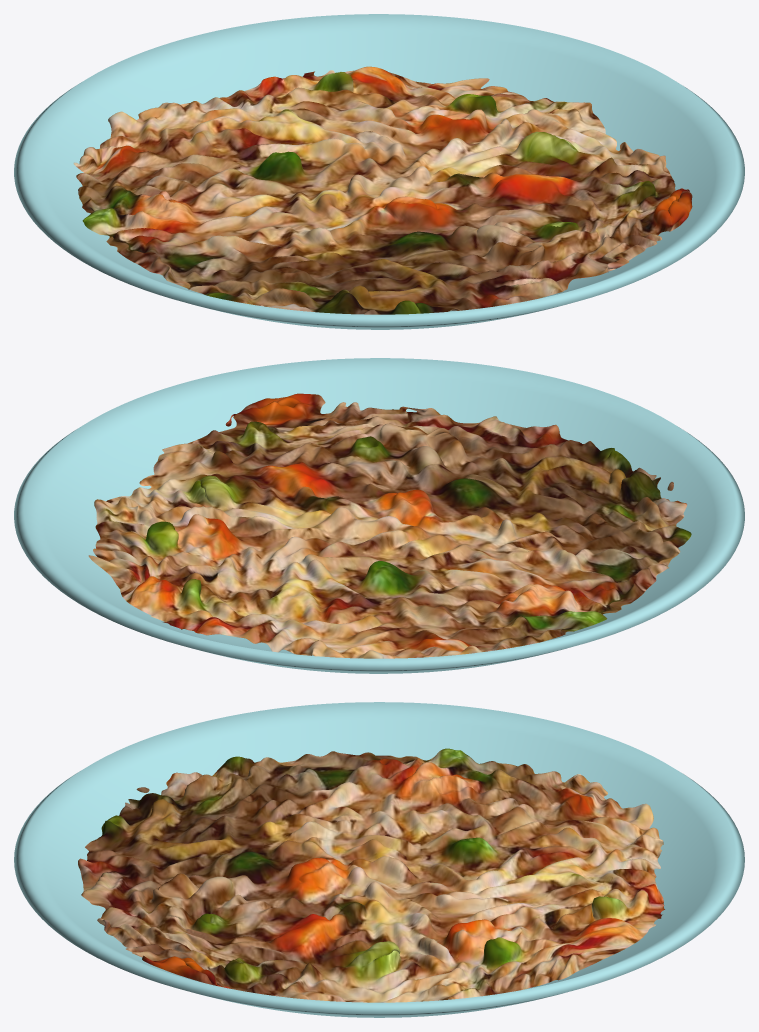
The model's file is fooddish.glb.
3 renders of one model, top to bottom at view 1: azimuth 30°, elevation 25°; view 2: azimuth 150°, elevation 25°; view 3: azimuth 270°, elevation 25°, orthographic.
Parts seen in each view (by area): view 1: Plane; view 2: Plane; view 3: Plane.
Part boxes in pixels (x1=…): Plane: x1=14, y1=14, x2=744, y2=329; Plane: x1=14, y1=358, x2=744, y2=673; Plane: x1=14, y1=702, x2=744, y2=1017.
Size of the model in its own units: 1.41 by 0.1887 by 1.41.
2 materials, 1 textured.
